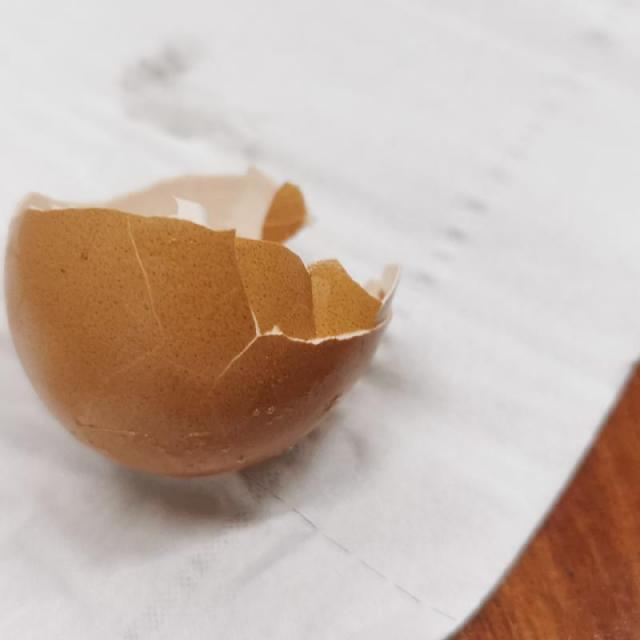egg shell: (6, 168, 402, 478)
